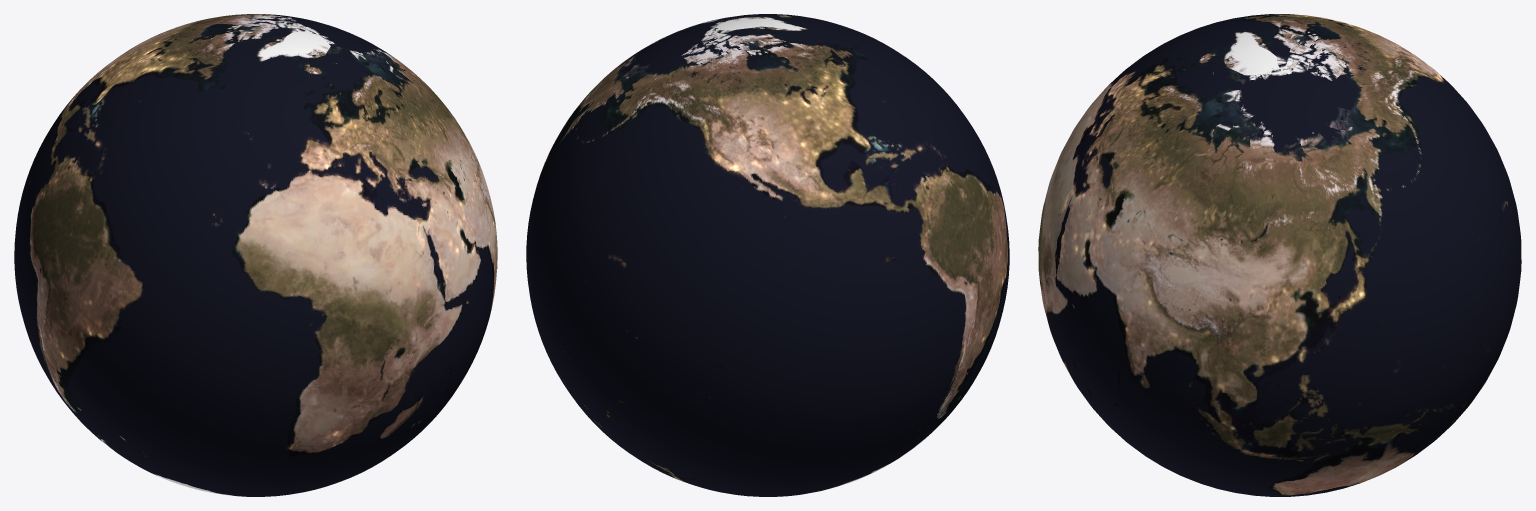
File: tierra.gltf
3 views of the same model, side by side, from view 1: azimuth 30°, elevation 25°; view 2: azimuth 150°, elevation 25°; view 3: azimuth 270°, elevation 25° (orthographic).
Parts seen in each view (by area): view 1: Earth; view 2: Earth; view 3: Earth.
Boxes of the visible parts, left/top/right/bottom form: Earth: left=14, top=14, right=497, bottom=496; Earth: left=526, top=14, right=1009, bottom=496; Earth: left=1038, top=14, right=1521, bottom=496.
Size of the model in its own units: 0.9998 by 0.9998 by 1.
Materials: 1 (1 with a texture image).
